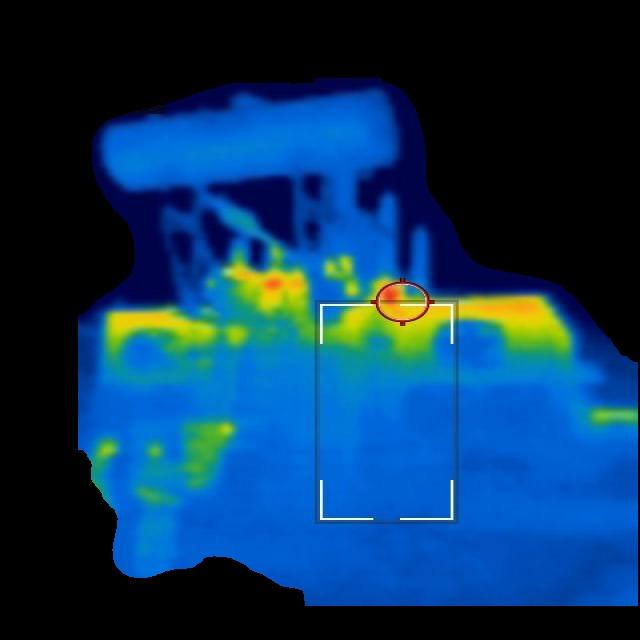Loose Joint F: (227, 269, 308, 310), (356, 282, 407, 315)
Transformer Overload: (98, 296, 583, 369)
